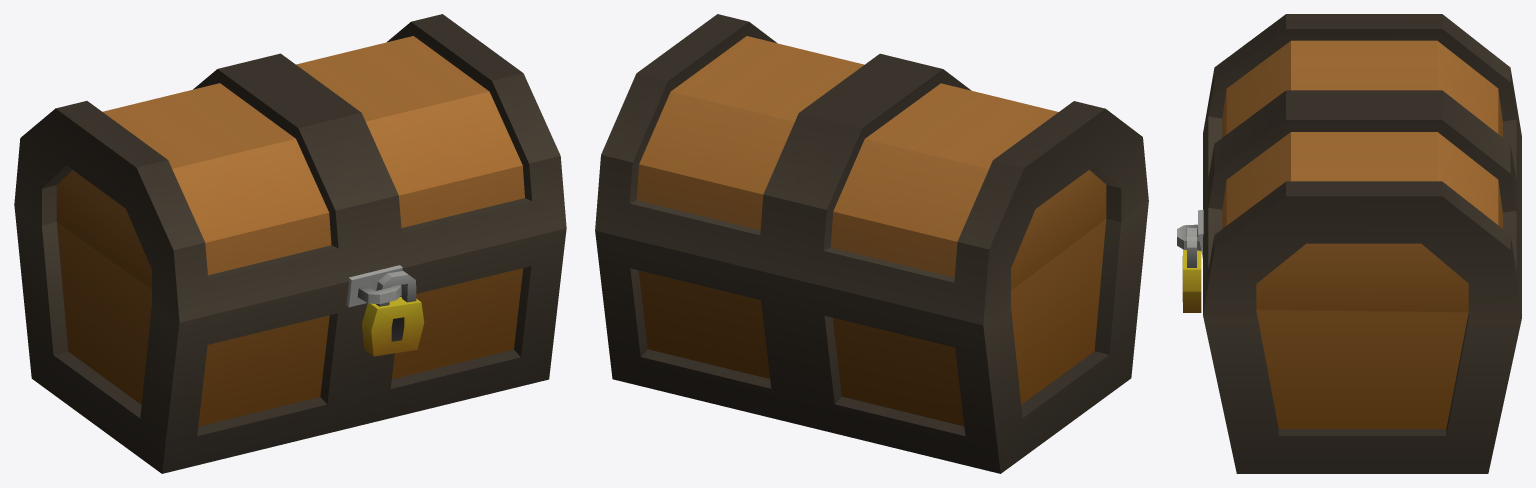
File: Chest_Closed.fbx
The picture shows the model from 3 angles, left to right: view 1: azimuth 30°, elevation 25°; view 2: azimuth 150°, elevation 25°; view 3: azimuth 270°, elevation 25°; orthographic projection. The views are drawn at different scales.
Parts seen in each view (by area): view 1: Chest_Closed; view 2: Chest_Closed; view 3: Chest_Closed.
Boxes of the visible parts, left/top/right/bottom form: Chest_Closed: left=14, top=14, right=566, bottom=473; Chest_Closed: left=595, top=14, right=1148, bottom=473; Chest_Closed: left=1177, top=14, right=1521, bottom=473.
Bounding box in the file's own units: 103 × 72.78 × 81.94.
